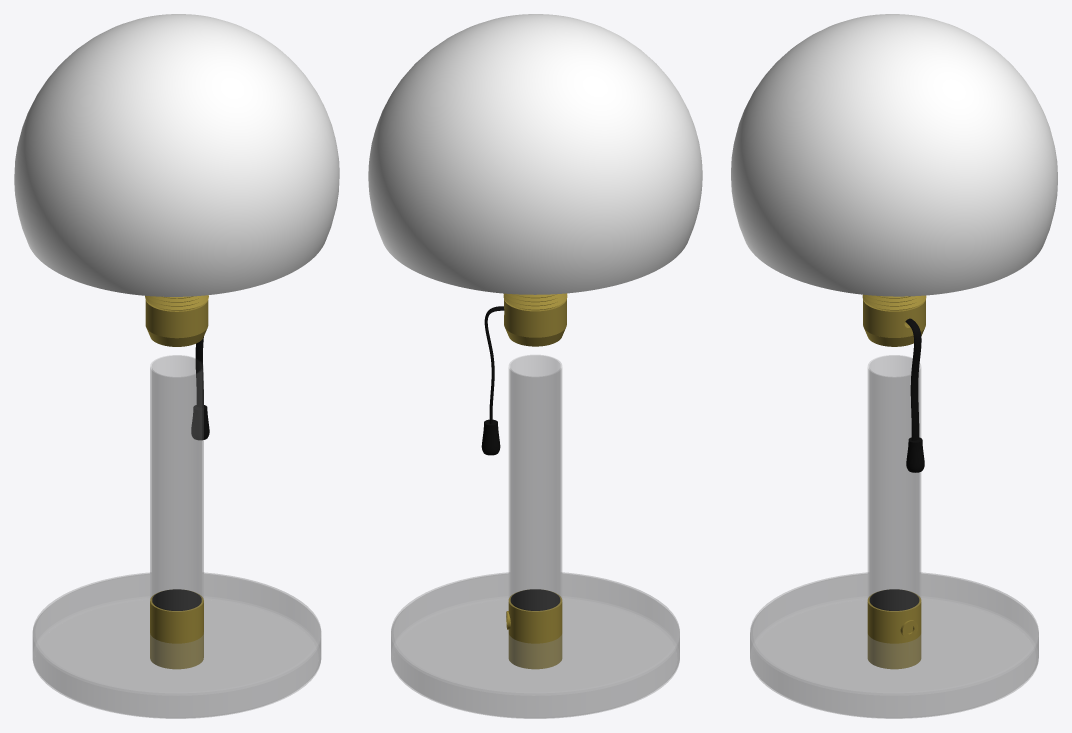
3 views of the same model, side by side, from view 1: azimuth 30°, elevation 25°; view 2: azimuth 150°, elevation 25°; view 3: azimuth 270°, elevation 25° (orthographic).
Parts seen in each view (by area): view 1: Node_#15, Node_#13, Node_#2, Node_#16, Node_#14, Node_#0, Node_#8, Node_#12, Node_#6, Node_#21, Node_#10; view 2: Node_#15, Node_#13, Node_#2, Node_#16, Node_#14, Node_#0, Node_#8, Node_#12, Node_#6, Node_#21, Node_#10; view 3: Node_#15, Node_#13, Node_#2, Node_#16, Node_#14, Node_#0, Node_#8, Node_#12, Node_#11, Node_#6, Node_#21, Node_#10.
Boxes of the visible parts, box(x1,y1,x2,y2) form: Node_#15: box(14, 14, 339, 296); Node_#13: box(33, 572, 320, 718); Node_#2: box(36, 574, 317, 691); Node_#16: box(150, 355, 203, 611); Node_#14: box(152, 356, 201, 610); Node_#0: box(33, 608, 320, 717); Node_#8: box(150, 591, 203, 669); Node_#12: box(145, 300, 208, 338); Node_#6: box(152, 589, 201, 610); Node_#21: box(145, 295, 208, 310); Node_#10: box(191, 405, 209, 440); Node_#15: box(368, 14, 702, 294); Node_#13: box(391, 572, 679, 718); Node_#2: box(394, 574, 676, 691); Node_#16: box(509, 355, 561, 611); Node_#14: box(510, 356, 560, 610); Node_#0: box(391, 607, 679, 717); Node_#8: box(508, 591, 562, 669); Node_#12: box(504, 299, 566, 337); Node_#6: box(510, 589, 560, 610); Node_#21: box(503, 293, 567, 310); Node_#10: box(481, 419, 500, 455); Node_#15: box(731, 14, 1057, 296); Node_#13: box(750, 572, 1038, 718); Node_#2: box(753, 574, 1035, 691); Node_#16: box(868, 355, 920, 611); Node_#14: box(869, 356, 919, 610); Node_#0: box(750, 608, 1038, 717); Node_#8: box(867, 592, 921, 669); Node_#12: box(863, 299, 925, 337); Node_#11: box(905, 318, 921, 440); Node_#6: box(869, 589, 919, 610); Node_#21: box(862, 294, 926, 310); Node_#10: box(906, 437, 924, 472).
Bounding box in the file's own units: 3.91 × 8.19 × 3.86.
